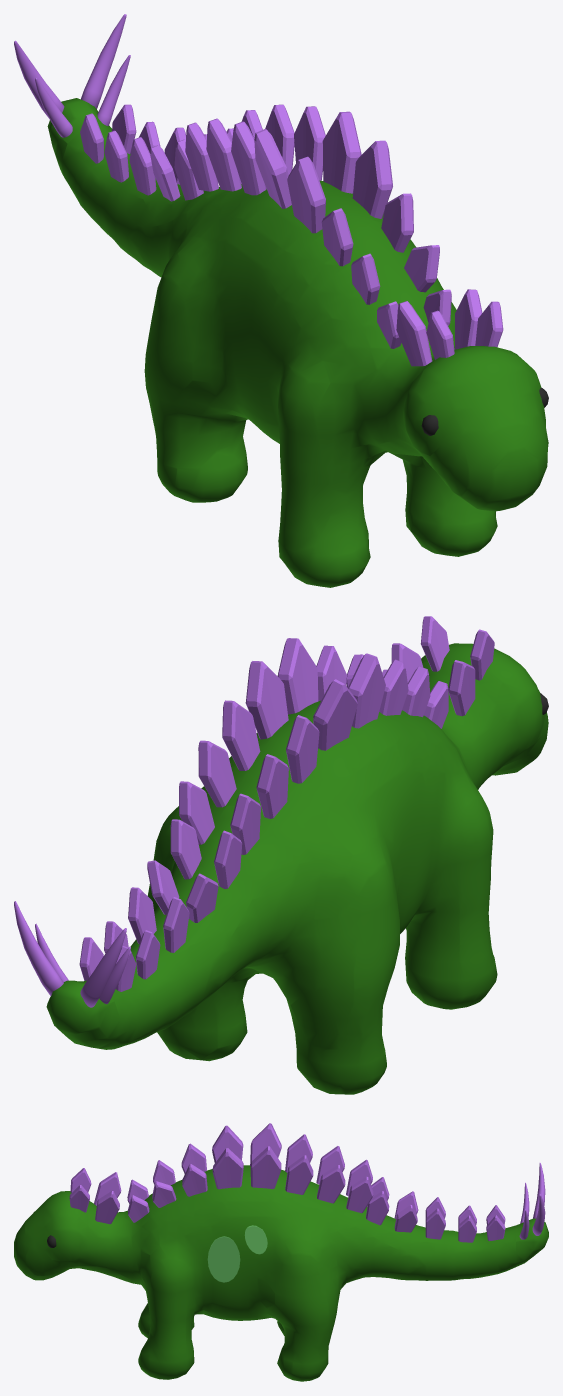
File: dinoComplete.fbx
The picture shows the model from 3 angles, top to bottom: view 1: azimuth 30°, elevation 25°; view 2: azimuth 150°, elevation 25°; view 3: azimuth 270°, elevation 25°; orthographic projection. The views are drawn at different scales.
Parts seen in each view (by area): view 1: Dino Complete; view 2: Dino Complete; view 3: Dino Complete.
Part boxes in pixels (bbox=[...]): Dino Complete: bbox=[14, 14, 548, 587]; Dino Complete: bbox=[14, 616, 548, 1094]; Dino Complete: bbox=[14, 1123, 548, 1381].
Size of the model in its own units: 8.39 by 27.98 by 12.91.
